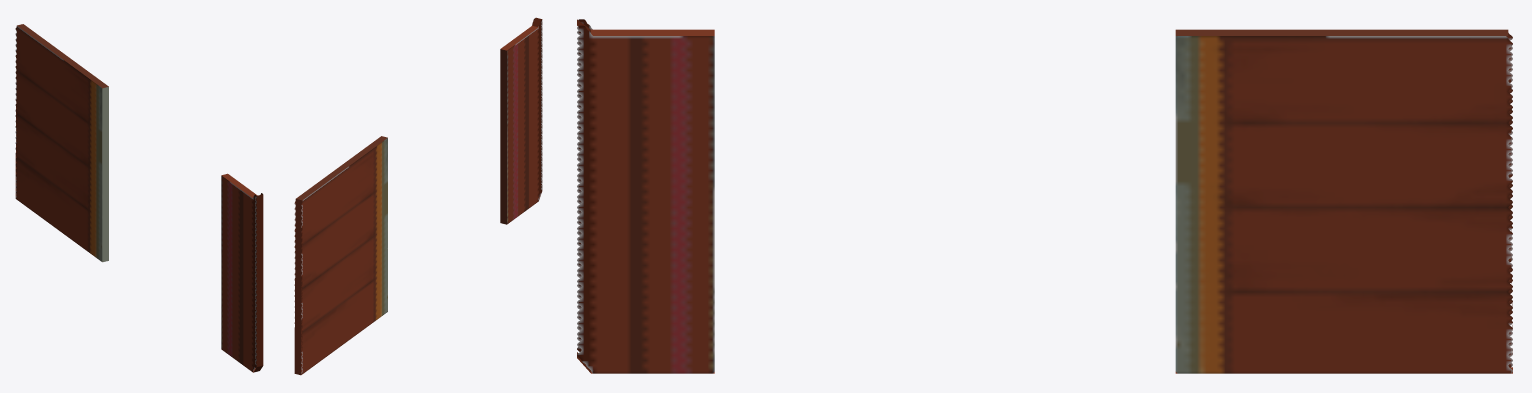
The model's file is pz_native_location_restaurant_spiffos_01_24_frame.obj.
3 renders of one model, left to right at view 1: azimuth 30°, elevation 25°; view 2: azimuth 150°, elevation 25°; view 3: azimuth 270°, elevation 25°, orthographic. The views are drawn at different scales.
Visible parts, largest first — view 1: pz_native_location_restaurant_spiffos_01_24_frame; view 2: pz_native_location_restaurant_spiffos_01_24_frame; view 3: pz_native_location_restaurant_spiffos_01_24_frame.
Boxes of the visible parts, x1,y1,x2,y2 form: pz_native_location_restaurant_spiffos_01_24_frame: (15,24,263,372); pz_native_location_restaurant_spiffos_01_24_frame: (294,17,542,375); pz_native_location_restaurant_spiffos_01_24_frame: (577,19,1512,373).
Size of the model in its own units: 0.04 by 1.06 by 2.54.
1 material, 1 textured.
